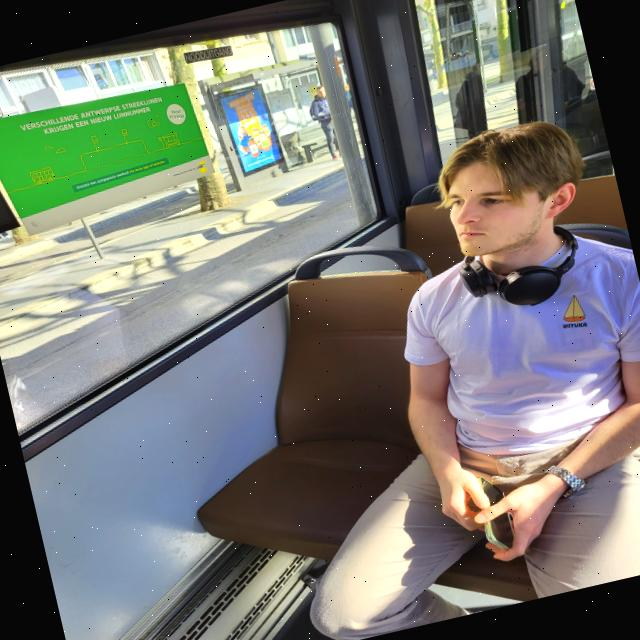empty-seat-frontal: (143, 227, 504, 595)
